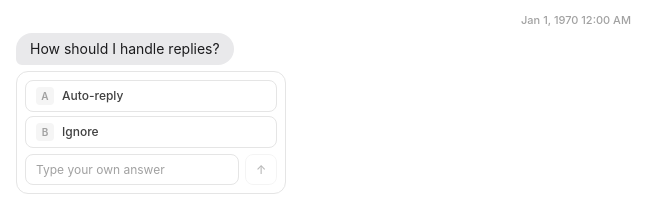
Scenario: ThreadView › choice chips (messaging spec, 'Structured choice prompts') › posts an inline own answer through the same path as a click
In the field labelled "Type your own answer": [132, 169] box [25,154,239,185], type "Only reply to my boss"
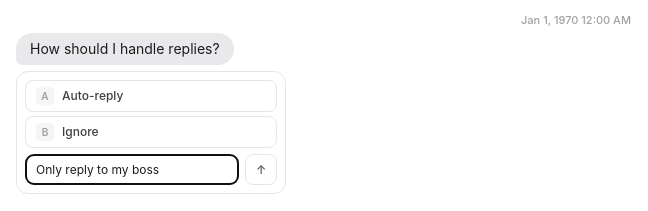
Click the button named "Send answer": [261, 169] box [245,154,277,185]
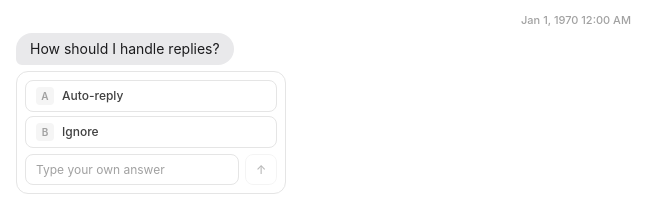
Check: the button named "Send answer" is disabled, box [245,154,277,185]
